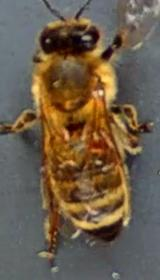varroa_mite: (75, 129, 112, 162)
